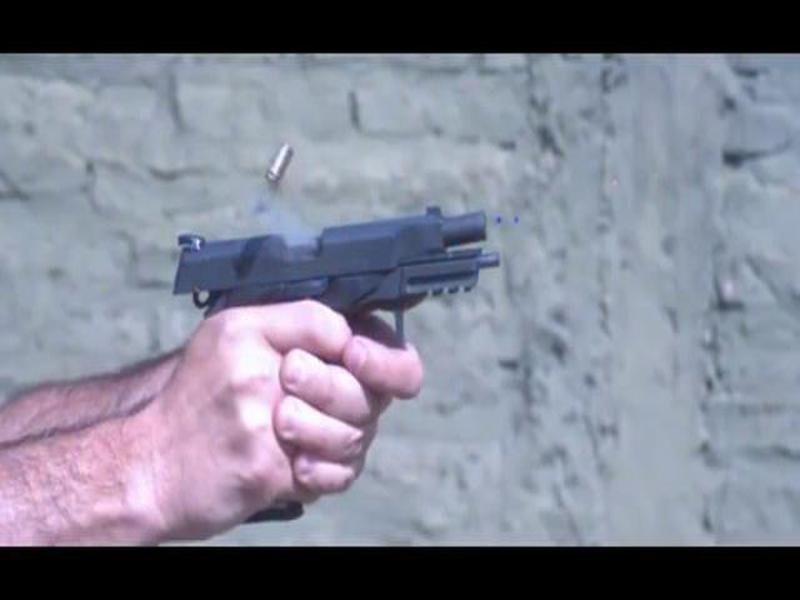Pistola: (163, 187, 501, 352)
